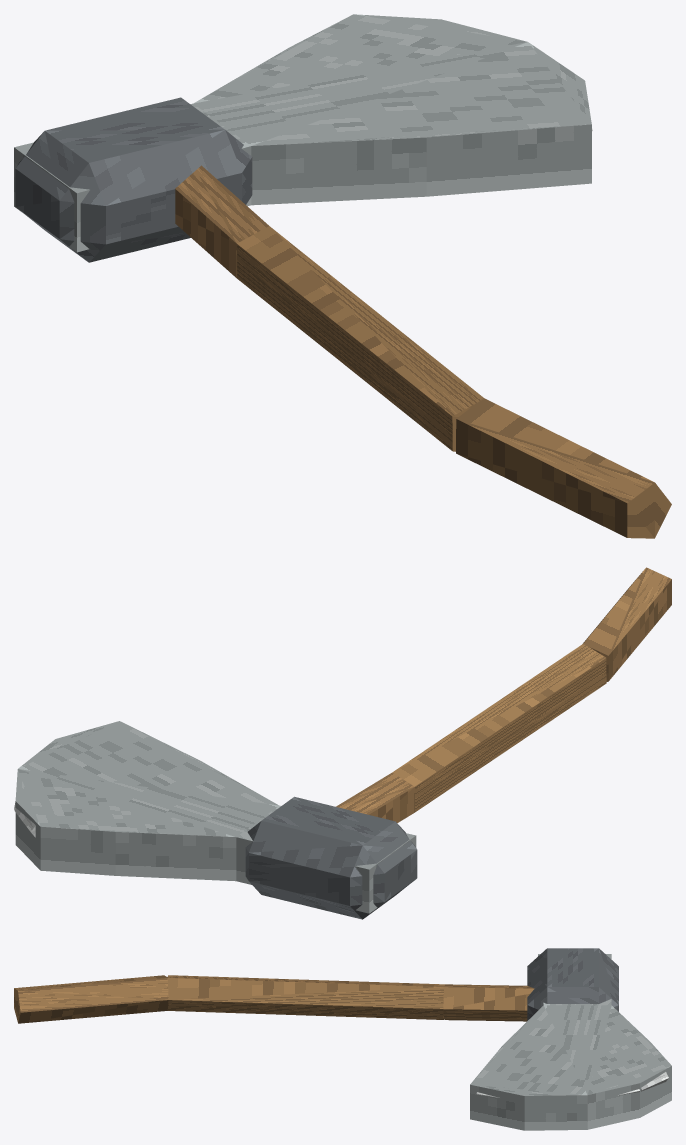
3 renders of one model, top to bottom at view 1: azimuth 30°, elevation 25°; view 2: azimuth 150°, elevation 25°; view 3: azimuth 270°, elevation 25°, orthographic. The views are drawn at different scales.
Parts seen in each view (by area): view 1: block_forged tool head, block_forged eye, block_curved wooden haft 1, block_curved wooden haft 2, block_curved wooden haft 0; view 2: block_forged tool head, block_forged eye, block_curved wooden haft 1, block_curved wooden haft 2, block_curved wooden haft 0; view 3: block_forged tool head, block_curved wooden haft 1, block_curved wooden haft 2, block_forged eye, block_curved wooden haft 0.
Boxes of the visible parts, x1,y1,x2,y2 form: block_forged tool head: (14,14,591,252); block_forged eye: (15,97,252,262); block_curved wooden haft 1: (237,226,484,451); block_curved wooden haft 2: (456,398,671,538); block_curved wooden haft 0: (175,165,268,278); block_forged tool head: (15,721,416,913); block_forged eye: (245,796,417,919); block_curved wooden haft 1: (392,643,606,812); block_curved wooden haft 2: (583,567,671,681); block_curved wooden haft 0: (336,772,414,822); block_forged tool head: (470,954,671,1130); block_curved wooden haft 1: (167,975,444,1019); block_curved wooden haft 2: (14,975,168,1023); block_forged eye: (527,948,618,1020); block_curved wooden haft 0: (443,984,534,1021).
Size of the model in its own units: 0.4059 by 0.0765 by 0.78.
1 material, 1 textured.
